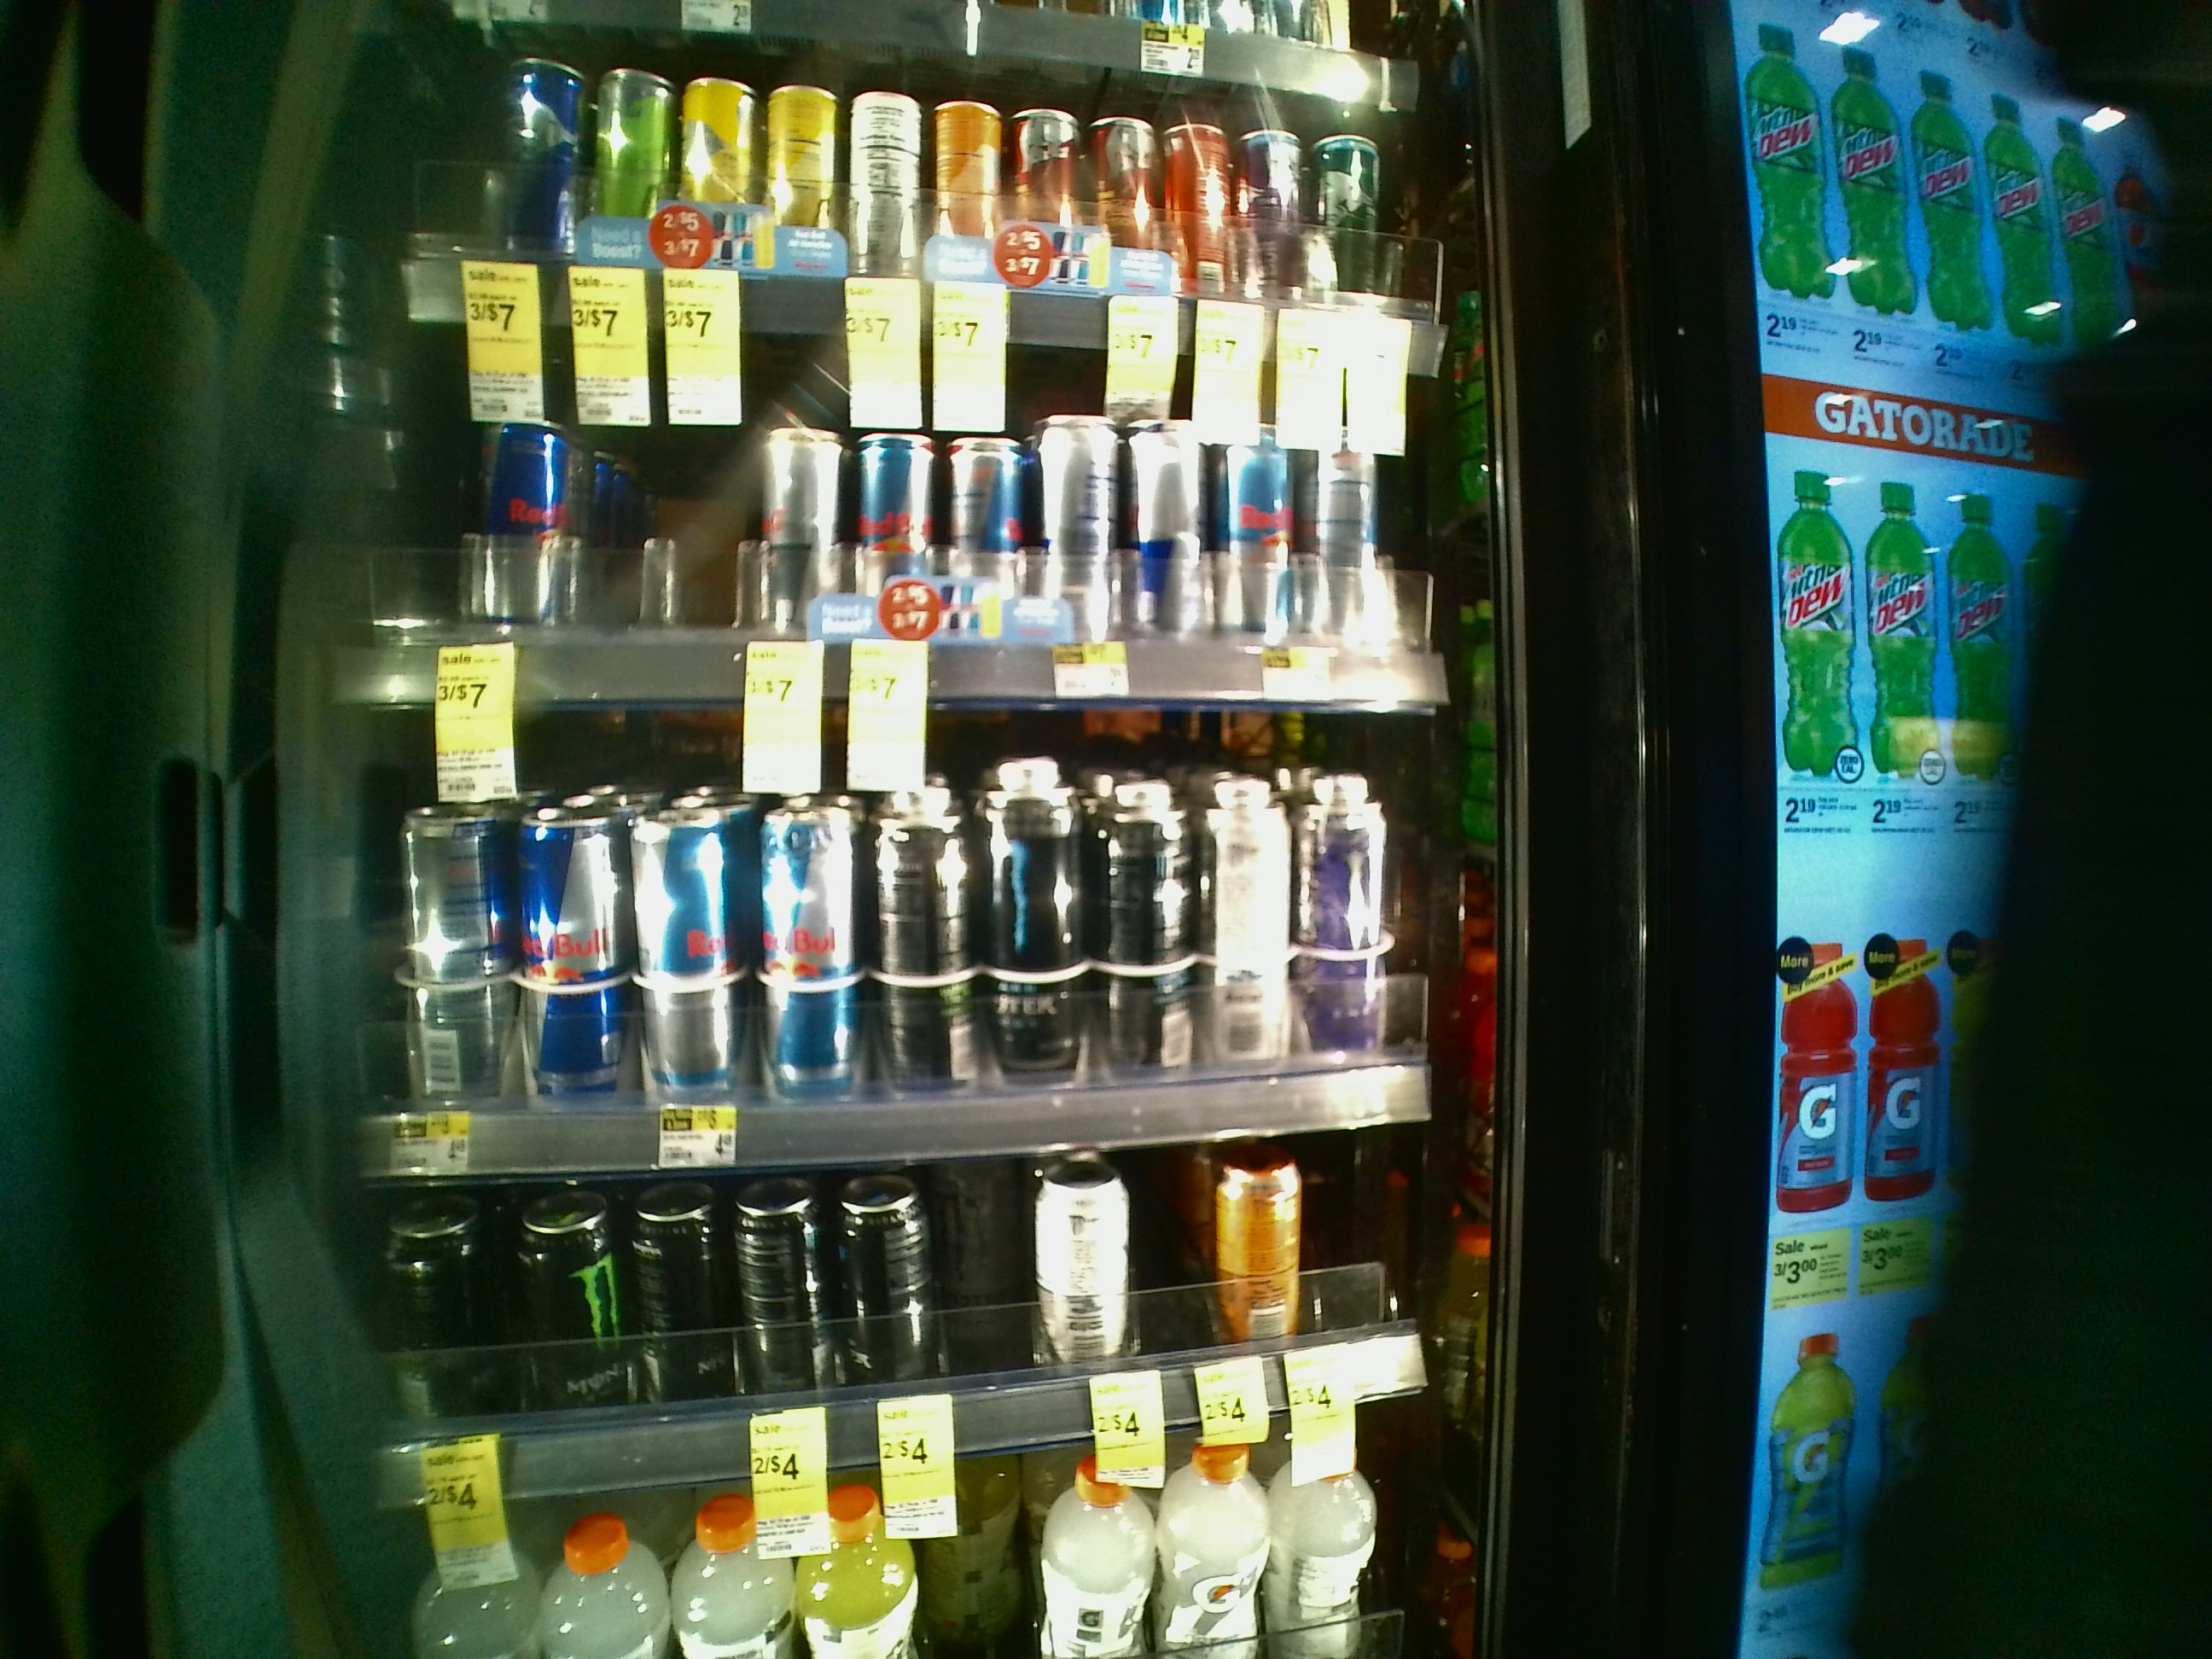shelf: (301, 697, 1517, 1164), (315, 321, 1521, 716)
